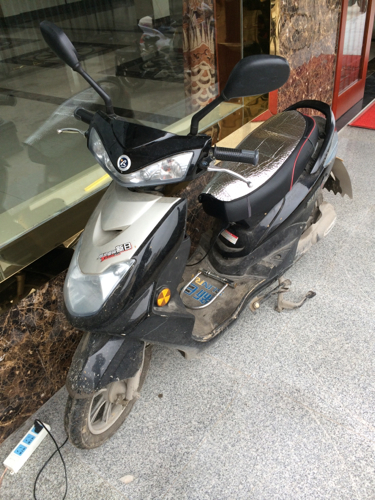电动车: (30, 13, 358, 452)
